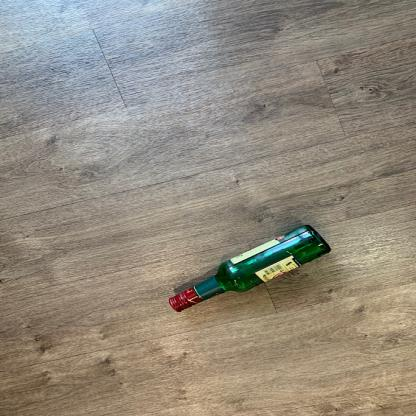trash: (163, 226, 335, 314)
